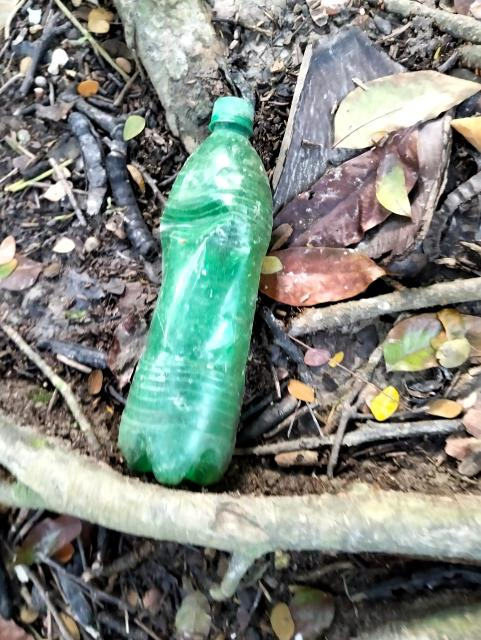bottle: (115, 61, 306, 503)
